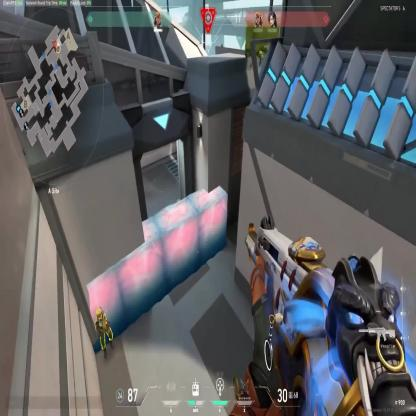enemy: (94, 306, 114, 359)
enemy_head: (96, 307, 102, 319)
